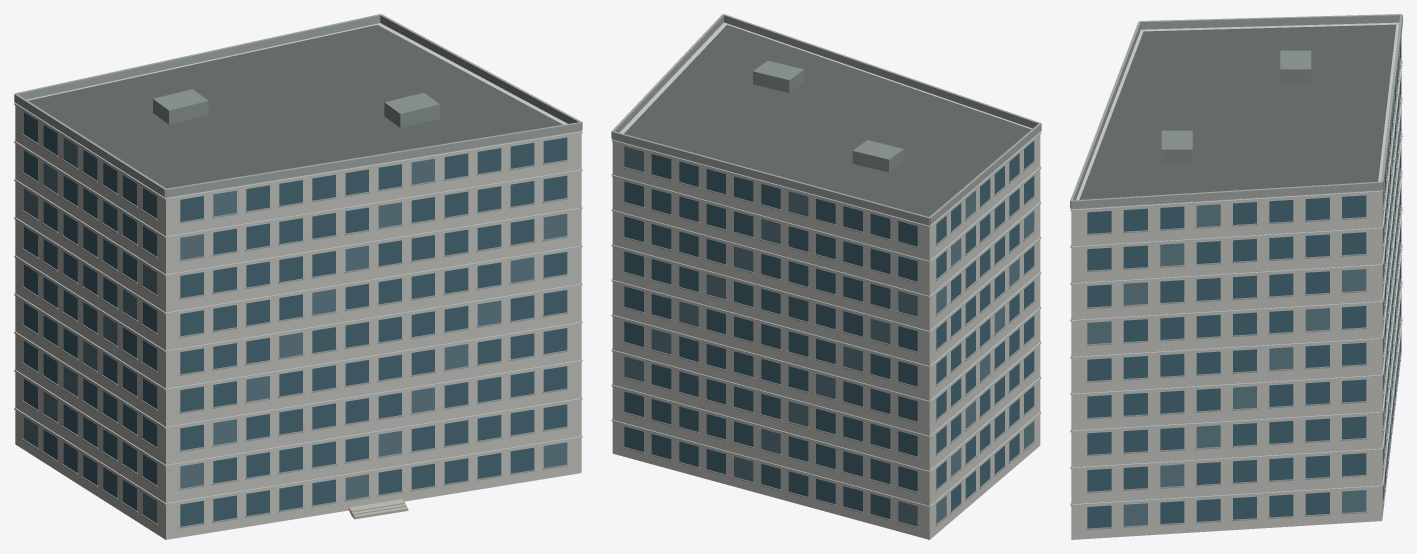
The model's file is 东侧办公园区-014.glb.
The picture shows the model from 3 angles, left to right: view 1: azimuth 30°, elevation 25°; view 2: azimuth 150°, elevation 25°; view 3: azimuth 270°, elevation 25°; orthographic projection. The views are drawn at different scales.
Visible parts, largest first — view 1: 东侧办公园区-014; view 2: 东侧办公园区-014; view 3: 东侧办公园区-014.
Boxes of the visible parts, x1,y1,x2,y2 form: 东侧办公园区-014: (14,14,582,539); 东侧办公园区-014: (611,14,1041,539); 东侧办公园区-014: (1070,14,1402,539).
Bounding box in the file's own units: 40.05 × 34.42 × 30.03.
